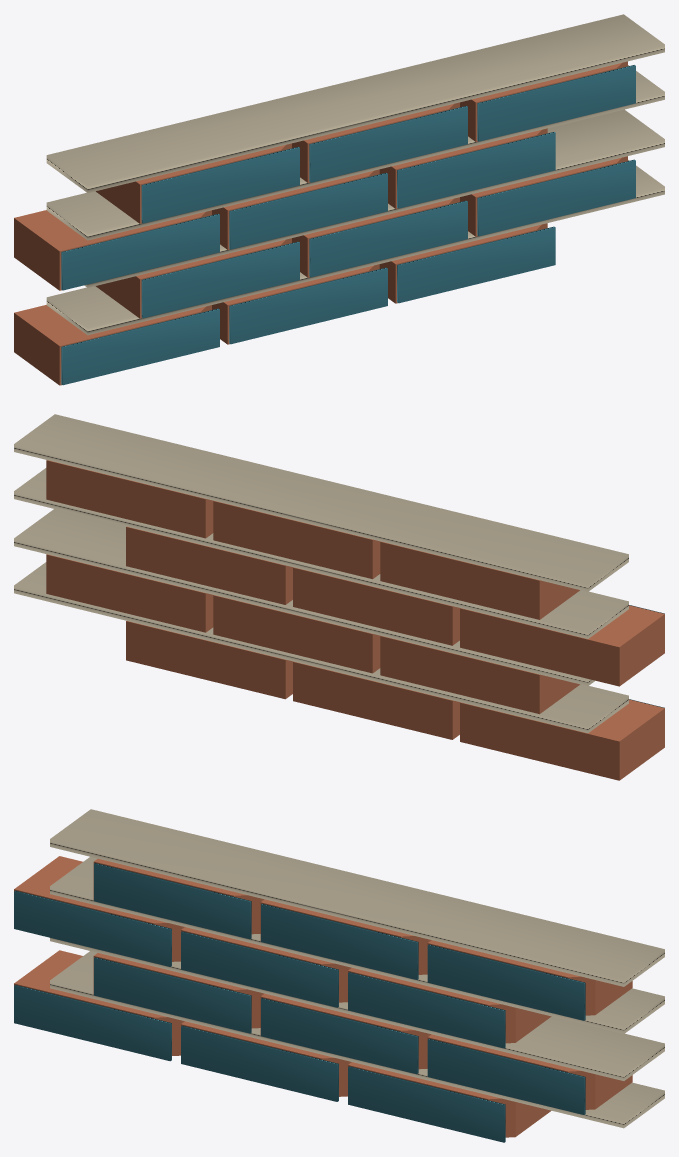
The model's file is lake-glazur-shallows-1.glb.
The picture shows the model from 3 angles, top to bottom: view 1: azimuth 30°, elevation 25°; view 2: azimuth 150°, elevation 25°; view 3: azimuth 330°, elevation 25°; orthographic projection.
Visible parts, largest first — view 1: lake-glazur-shallows-1; view 2: lake-glazur-shallows-1; view 3: lake-glazur-shallows-1.
Part boxes in pixels (x1,y1,x2,y2): lake-glazur-shallows-1: (14, 14, 664, 385); lake-glazur-shallows-1: (14, 414, 664, 780); lake-glazur-shallows-1: (14, 809, 664, 1142).
Size of the model in its own units: 0.969 by 0.288 by 0.13.
